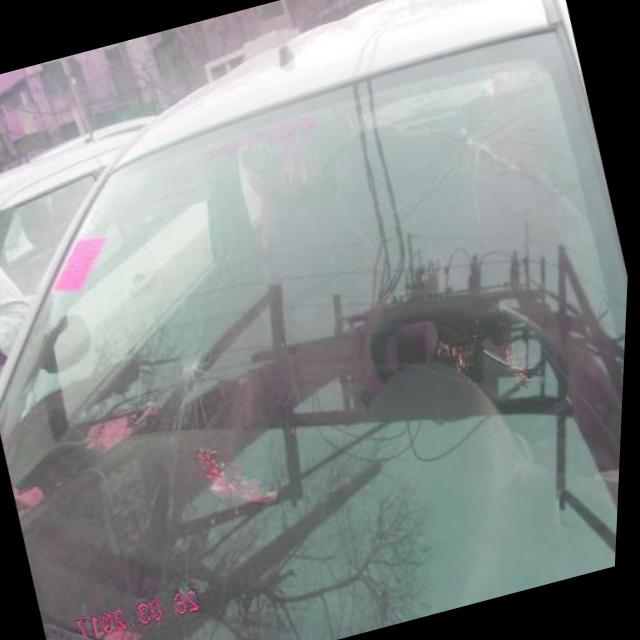Car-Damage: (427, 105, 515, 186), (162, 332, 226, 396)
